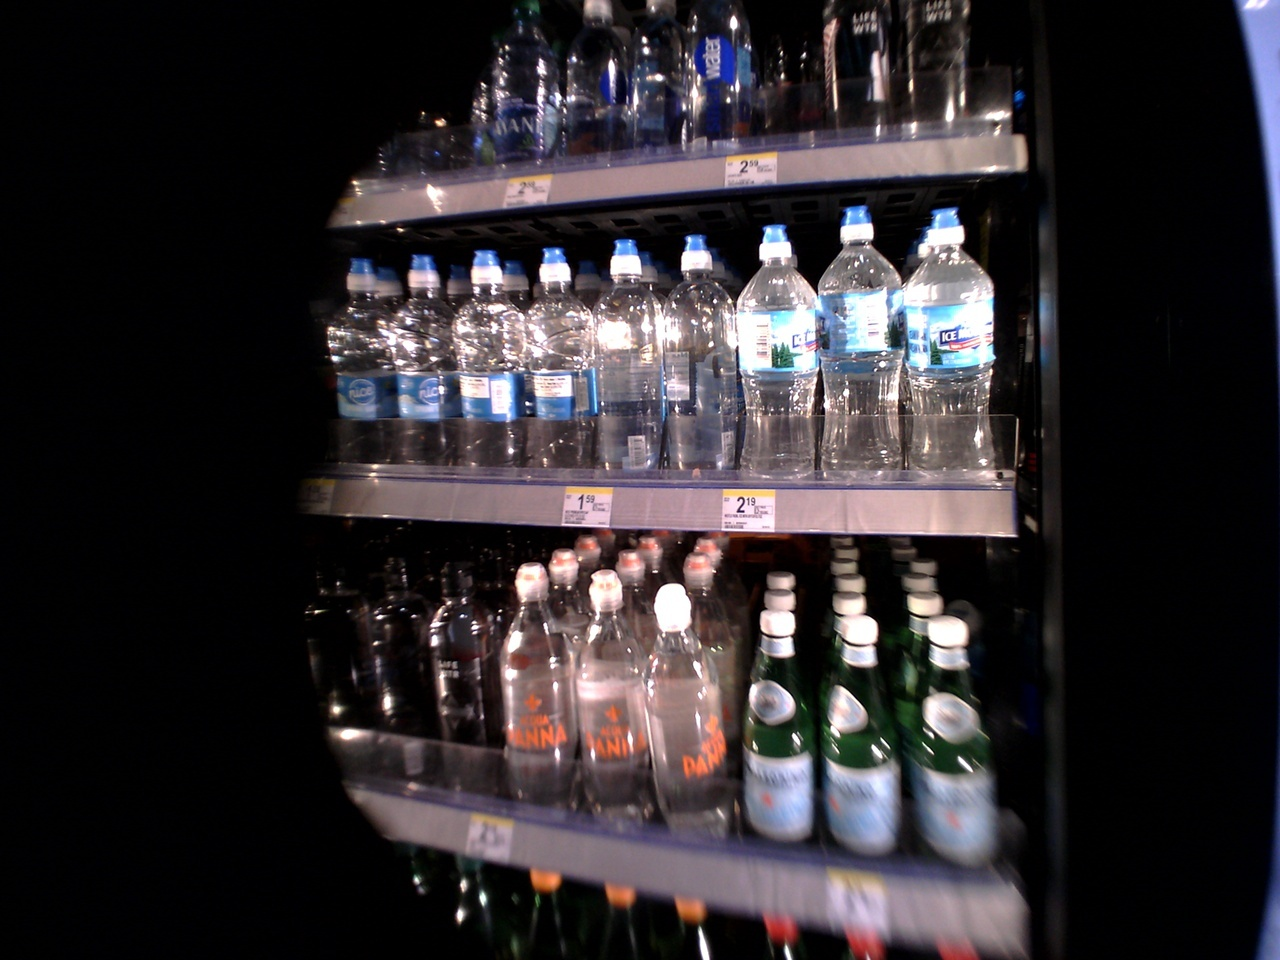shelf: (297, 522, 1032, 899), (299, 210, 1022, 544), (309, 0, 1004, 197)
